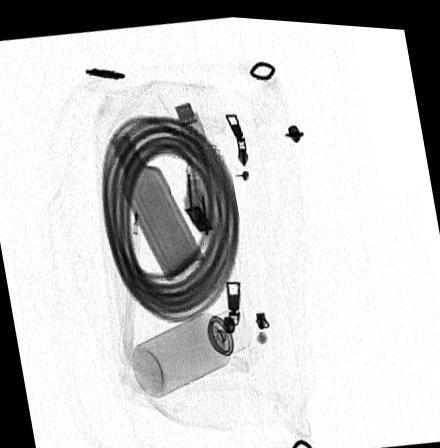Sprayer: (130, 306, 250, 394)
